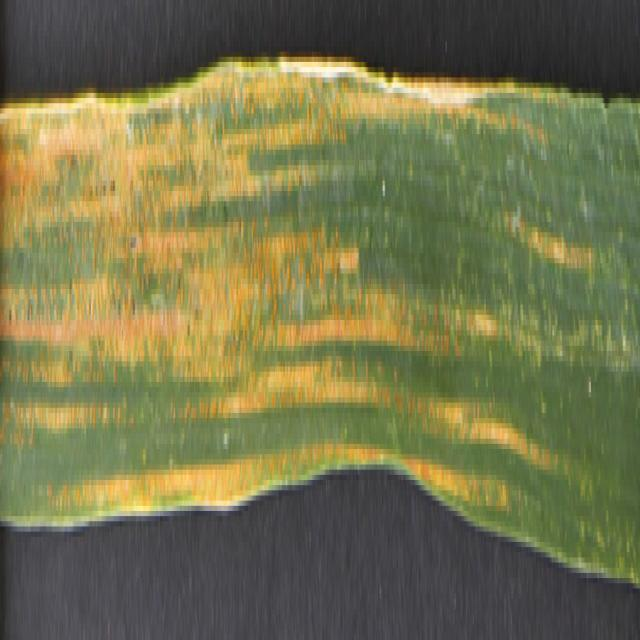leaf rust: (1, 62, 592, 501)
